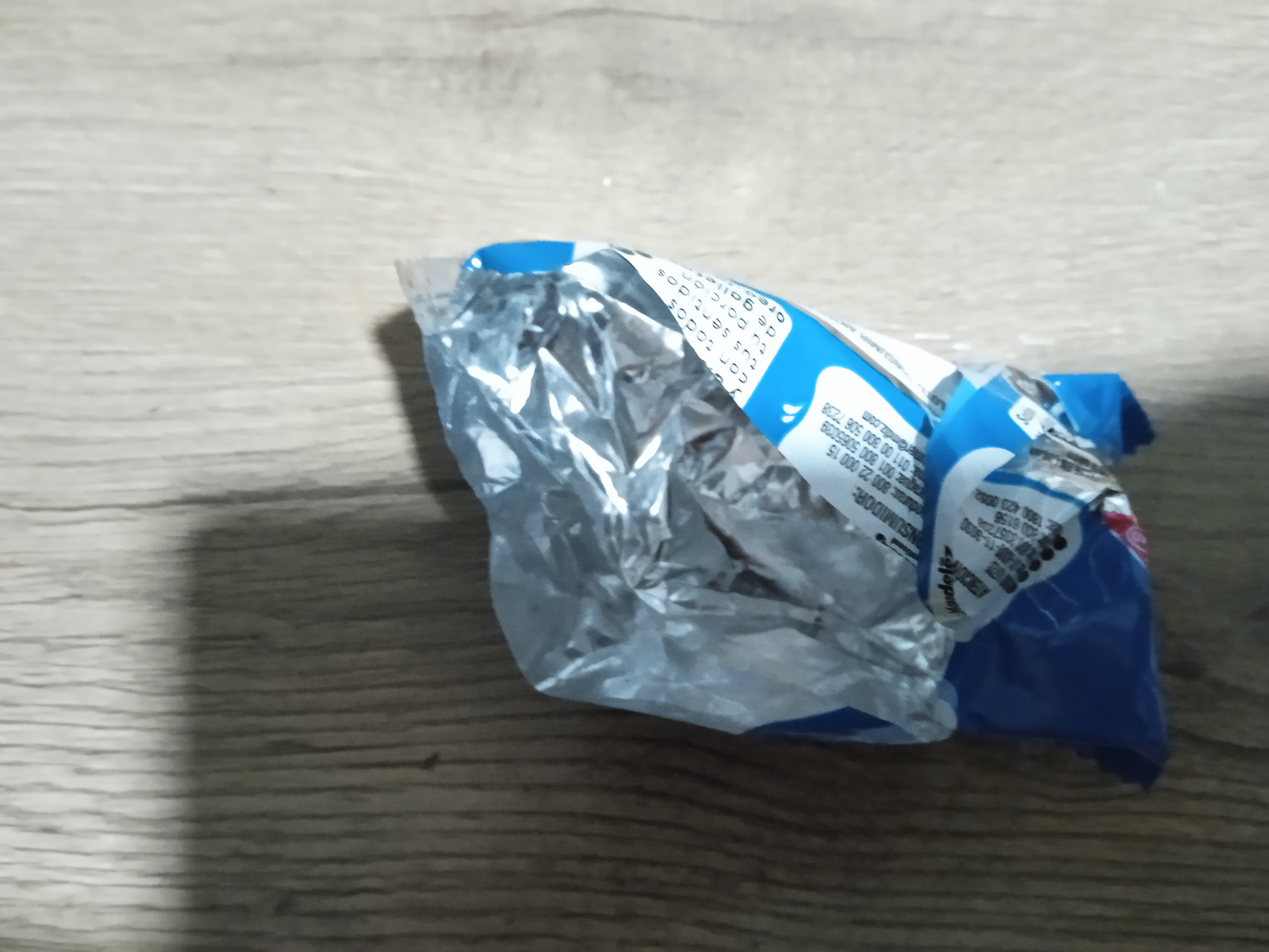plastic: (328, 217, 1188, 804)
